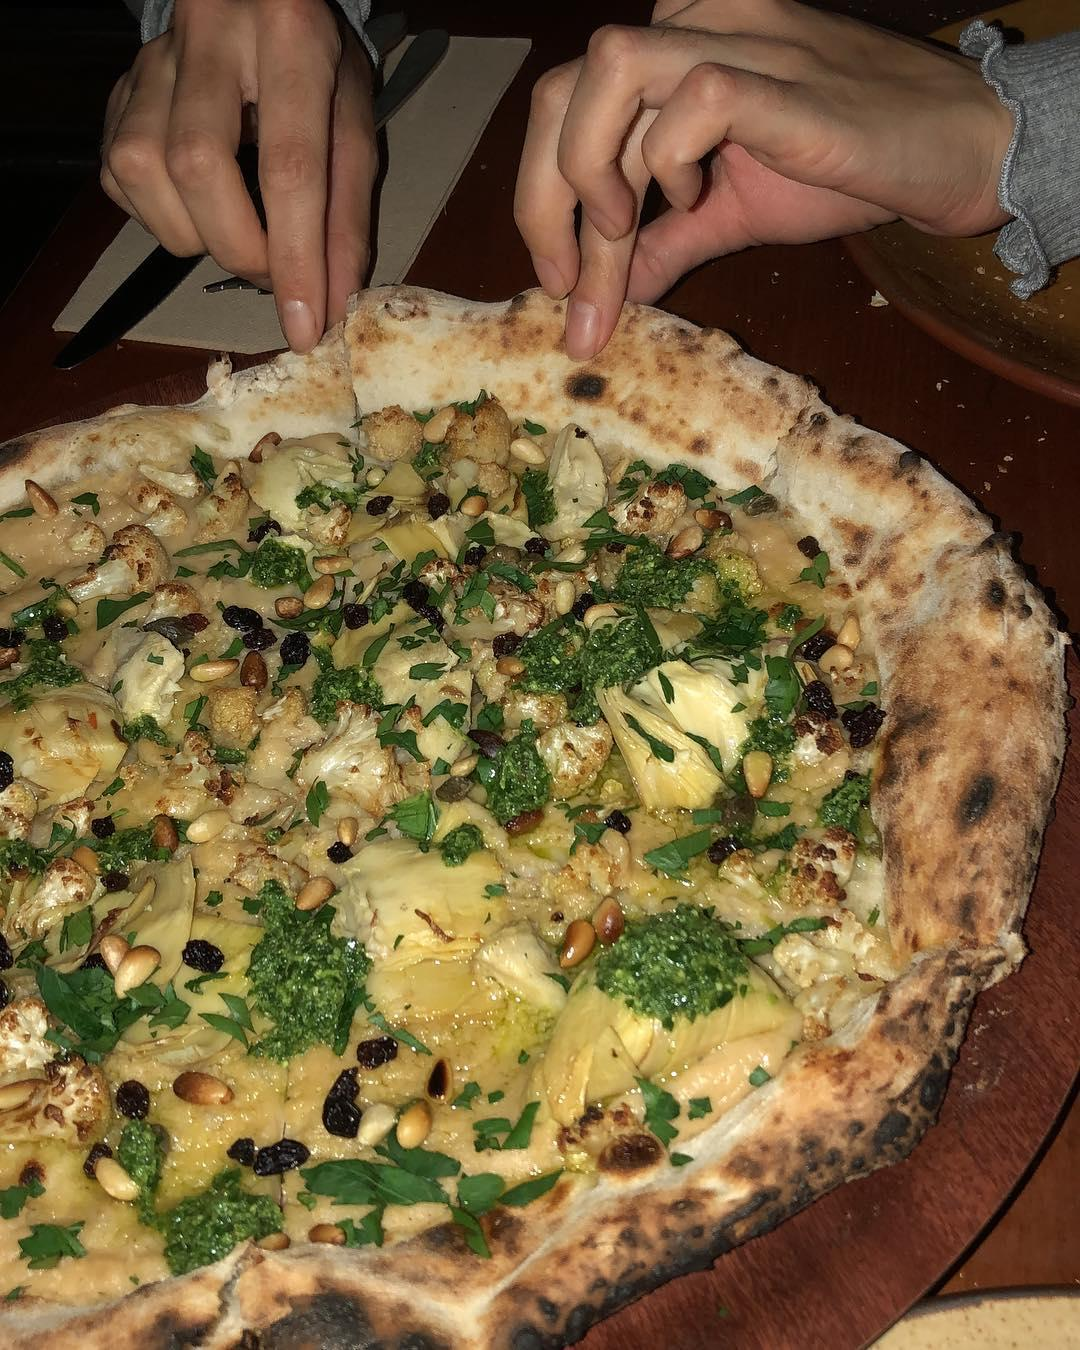Broccoli: (210, 682, 438, 803), (494, 694, 615, 817), (256, 911, 365, 1045), (604, 918, 742, 1008), (57, 526, 185, 609), (359, 407, 514, 466), (522, 628, 650, 693), (617, 547, 703, 609), (622, 479, 684, 534)
Pizza: (7, 291, 1080, 1350)
